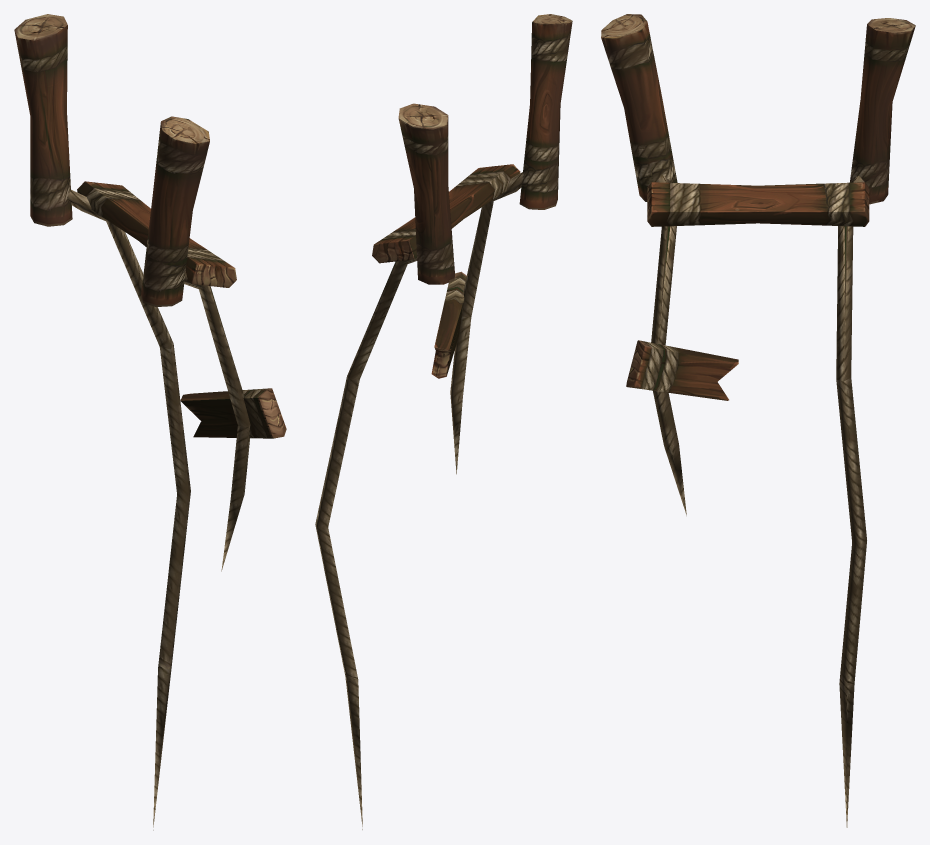
File: rope_bridge_ruin_r_small_02.fbx
3 views of the same model, side by side, from view 1: azimuth 30°, elevation 25°; view 2: azimuth 150°, elevation 25°; view 3: azimuth 270°, elevation 25° (orthographic). The views are drawn at different scales.
Visible parts, largest first — view 1: rope_bridge_ruin_r_small_02; view 2: rope_bridge_ruin_r_small_02; view 3: rope_bridge_ruin_r_small_02.
Boxes of the visible parts, x1,y1,x2,y2 form: rope_bridge_ruin_r_small_02: (14,14,286,830); rope_bridge_ruin_r_small_02: (315,14,572,829); rope_bridge_ruin_r_small_02: (601,14,915,827).
Size of the model in its own units: 102 by 503 by 186.
